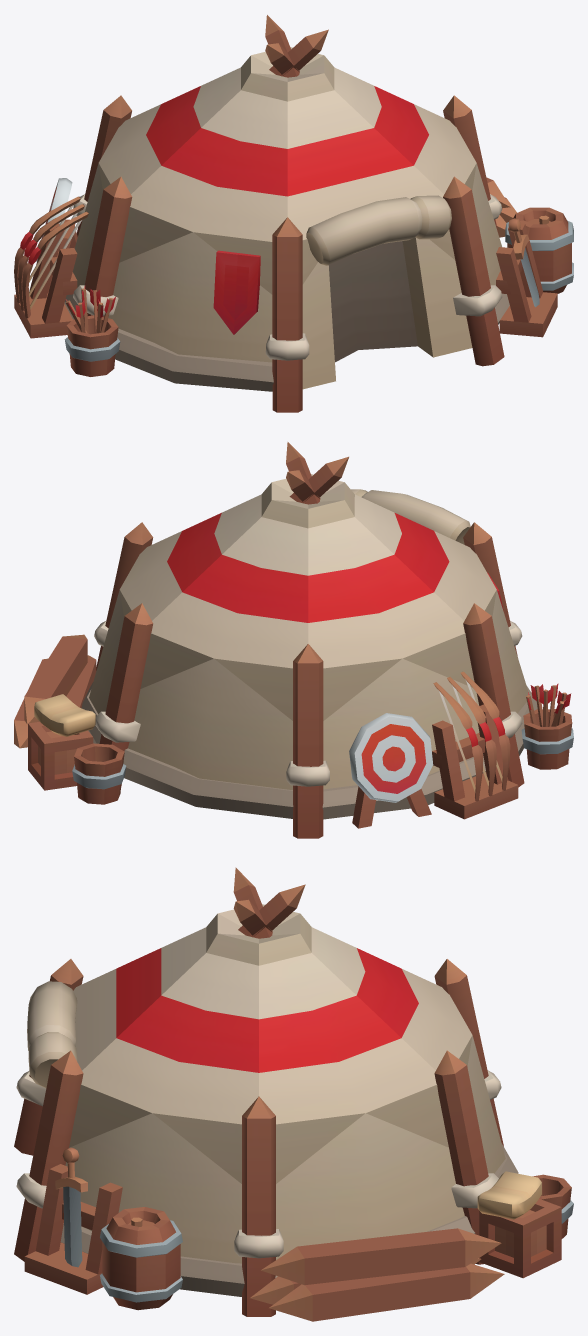
The model's file is hexr_tent.glb.
3 views of the same model, one above another, from view 1: azimuth 30°, elevation 25°; view 2: azimuth 150°, elevation 25°; view 3: azimuth 270°, elevation 25° (orthographic). The views are drawn at different scales.
Visible parts, largest first — view 1: building_tent_red; view 2: building_tent_red; view 3: building_tent_red.
Part boxes in pixels (left/top/right/bottom): building_tent_red: left=14, top=15, right=573, bottom=412; building_tent_red: left=14, top=442, right=573, bottom=838; building_tent_red: left=14, top=867, right=573, bottom=1321.
Bounding box in the file's own units: 1.52 × 0.8496 × 1.35.
1 material, 1 textured.
